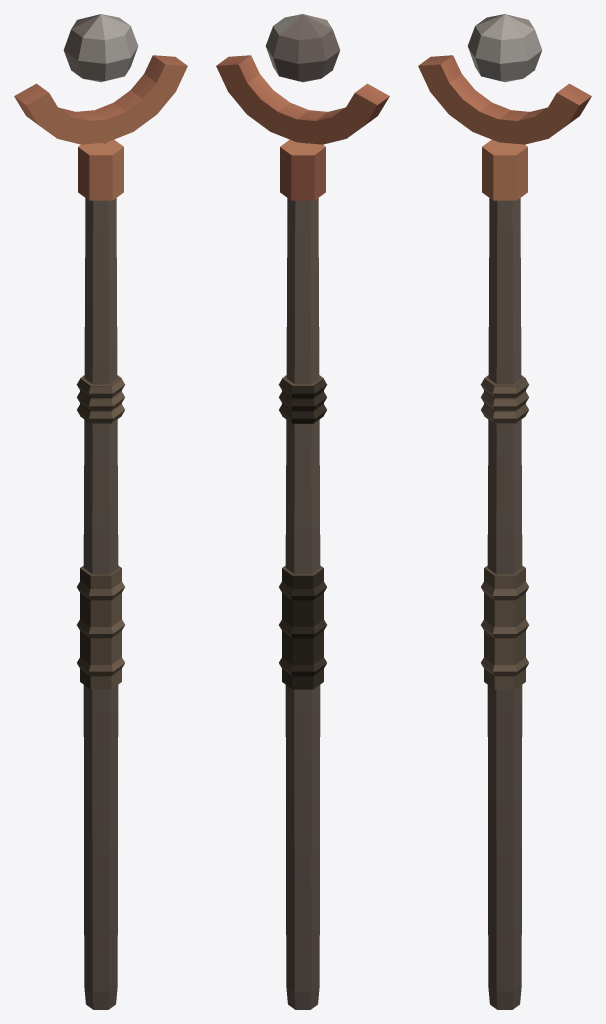
The model's file is mage_soulstaff_0.gltf.
3 renders of one model, left to right at view 1: azimuth 30°, elevation 25°; view 2: azimuth 150°, elevation 25°; view 3: azimuth 330°, elevation 25°, orthographic.
Parts seen in each view (by area): view 1: mage_soulstaff_0; view 2: mage_soulstaff_0; view 3: mage_soulstaff_0.
Part boxes in pixels (bbox=[...]): mage_soulstaff_0: bbox=[14, 14, 187, 1009]; mage_soulstaff_0: bbox=[216, 14, 389, 1009]; mage_soulstaff_0: bbox=[418, 14, 591, 1009].
Size of the model in its own units: 0.4451 by 2.61 by 0.1663.
Materials: 1 (1 with a texture image).
